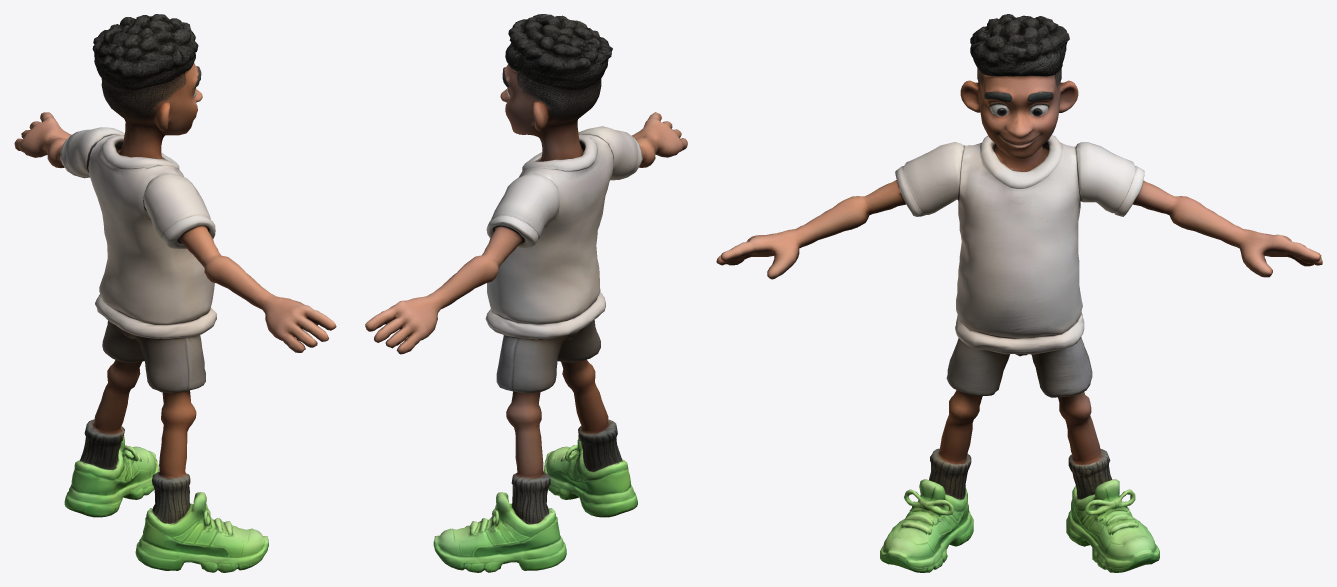
3 views of the same model, side by side, from view 1: azimuth 30°, elevation 25°; view 2: azimuth 150°, elevation 25°; view 3: azimuth 270°, elevation 25° (orthographic). The views are drawn at different scales.
Visible parts, largest first — view 1: tripo_node_53aeaeba; view 2: tripo_node_53aeaeba; view 3: tripo_node_53aeaeba.
Part boxes in pixels (bbox=[...]): tripo_node_53aeaeba: bbox=[14, 14, 336, 572]; tripo_node_53aeaeba: bbox=[365, 14, 687, 572]; tripo_node_53aeaeba: bbox=[716, 14, 1322, 572].
Size of the model in its own units: 0.2172 by 0.9628 by 1.
1 material, 1 textured.
